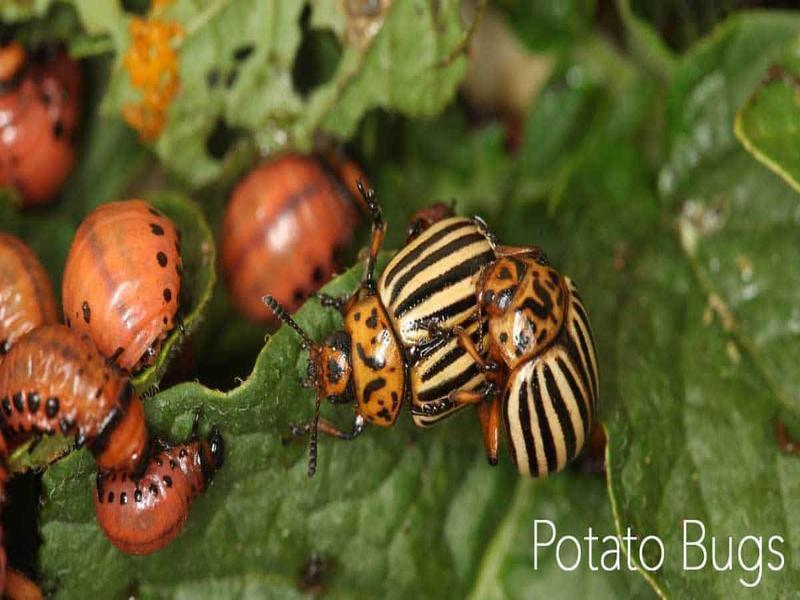hrosc: (302, 215, 503, 454), (480, 249, 608, 477)
